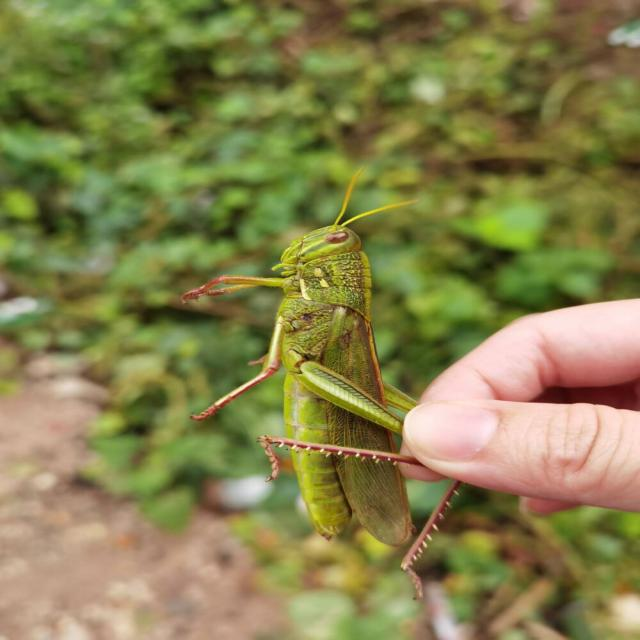ZhaMeng: (178, 161, 452, 570)
